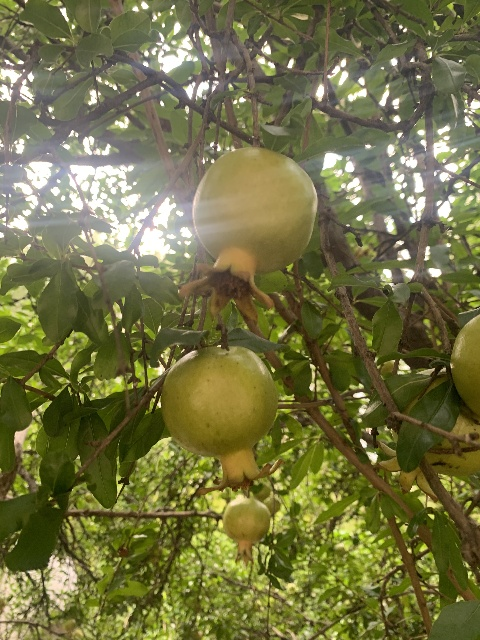mid-growth: (177, 146, 318, 324), (160, 346, 285, 494), (375, 367, 480, 502), (222, 496, 270, 566)
